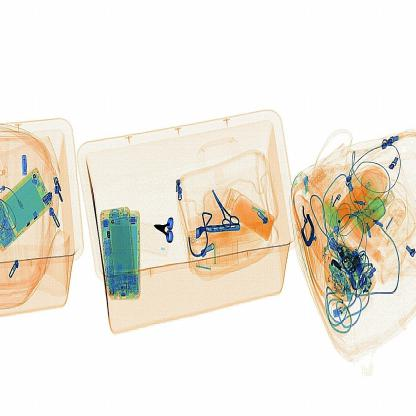gun: (151, 206, 180, 254)
